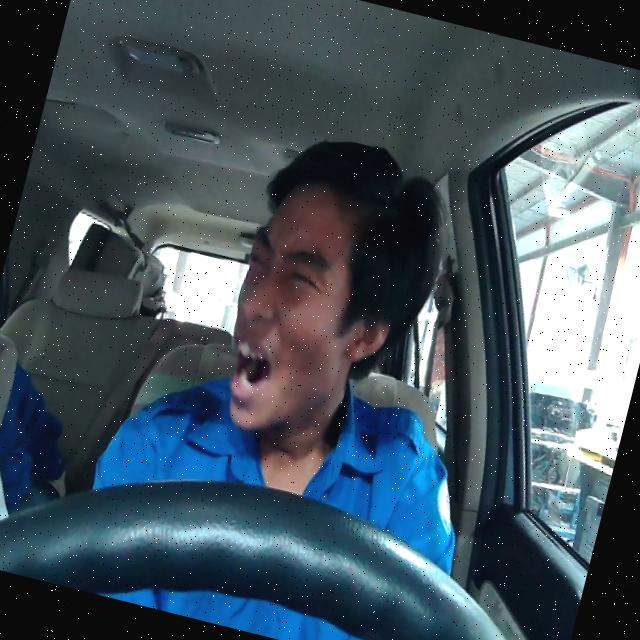yarning: (206, 170, 419, 458)
